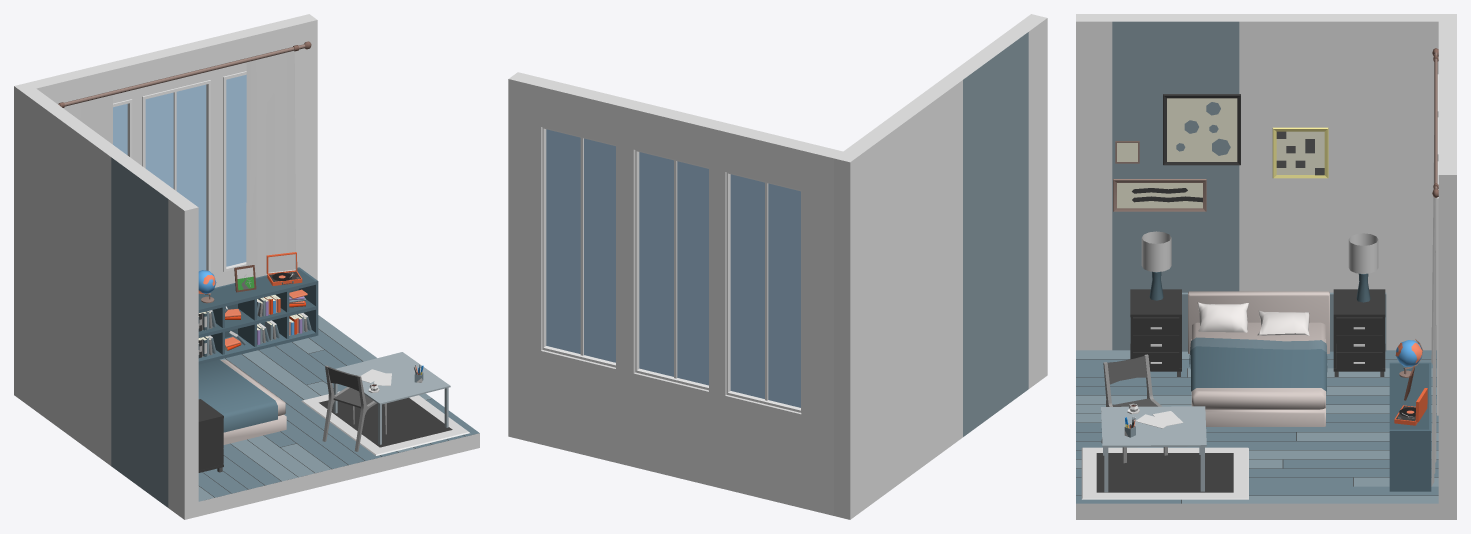
File: room_16.glb
3 renders of one model, left to right at view 1: azimuth 30°, elevation 25°; view 2: azimuth 150°, elevation 25°; view 3: azimuth 270°, elevation 25°, orthographic. The views are drawn at different scales.
Visible parts, largest first — view 1: Walls_006.046, Walls_116.011, floor_005.001, window_001.001, Curtains_020.001, Walls_006.026, Walls_006.045, Walls_006.048, shelf_074.001, Walls_011.008, carpet_009.002, bed_017.002 (+10 smaller); view 2: window_001.001, Walls_006.046, Walls_116.011, Walls_006.047, Walls_006.045, Walls_006.048, Walls_006.026, Walls_006.049, Walls_006.034, Walls_006.016, Walls_006.050, Walls_006.042; view 3: Walls_006.046, Walls_116.011, floor_005.001, bed_017.002, Walls_006.026, picture_034.003, carpet_009.002, Walls_011.008, Walls_006.045, shelf_074.001, shelf_051.002, kitchen_table_016.001 (+13 smaller).
Boxes of the visible parts, <box> form: Walls_006.046: <box>14,82,124,465</box>; Walls_116.011: <box>111,154,181,507</box>; floor_005.001: <box>198,315,479,501</box>; window_001.001: <box>113,71,246,271</box>; Curtains_020.001: <box>246,51,295,277</box>; Walls_006.026: <box>168,195,198,519</box>; Walls_006.045: <box>281,14,317,280</box>; Walls_006.048: <box>28,40,209,109</box>; shelf_074.001: <box>198,267,318,364</box>; Walls_011.008: <box>198,328,479,516</box>; carpet_009.002: <box>301,391,469,455</box>; bed_017.002: <box>198,359,286,444</box>; window_001.001: <box>542,127,801,412</box>; Walls_006.046: <box>834,76,962,519</box>; Walls_116.011: <box>947,28,1028,436</box>; Walls_006.047: <box>633,372,833,515</box>; Walls_006.045: <box>508,72,549,444</box>; Walls_006.048: <box>633,102,842,198</box>; Walls_006.026: <box>1012,14,1047,388</box>; Walls_006.049: <box>801,190,833,422</box>; Walls_006.034: <box>541,350,615,462</box>; Walls_006.016: <box>616,98,642,466</box>; Walls_006.050: <box>709,168,726,395</box>; Walls_006.042: <box>541,80,624,144</box>; Walls_006.046: <box>1239,14,1456,350</box>; Walls_116.011: <box>1112,14,1239,350</box>; floor_005.001: <box>1076,350,1438,503</box>; bed_017.002: <box>1188,291,1329,426</box>; Walls_006.026: <box>1076,14,1112,350</box>; picture_034.003: <box>1113,94,1328,211</box>; carpet_009.002: <box>1081,447,1248,499</box>; Walls_011.008: <box>1076,359,1438,519</box>; Walls_006.045: <box>1438,159,1456,519</box>; shelf_074.001: <box>1389,362,1431,491</box>; shelf_051.002: <box>1333,289,1385,376</box>; kitchen_table_016.001: <box>1101,406,1206,492</box>.
Bounding box in the file's own units: 4.2 × 4.2 × 4.2.
Materials: 1 (1 with a texture image).
